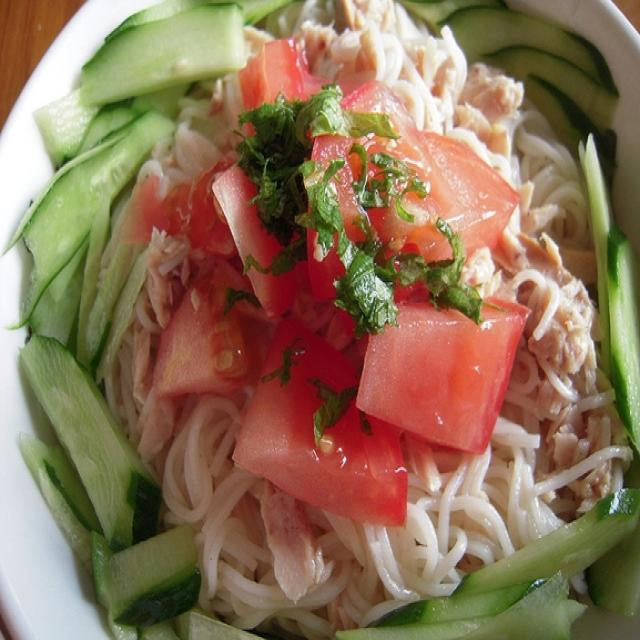面条主食: (41, 15, 623, 615)
